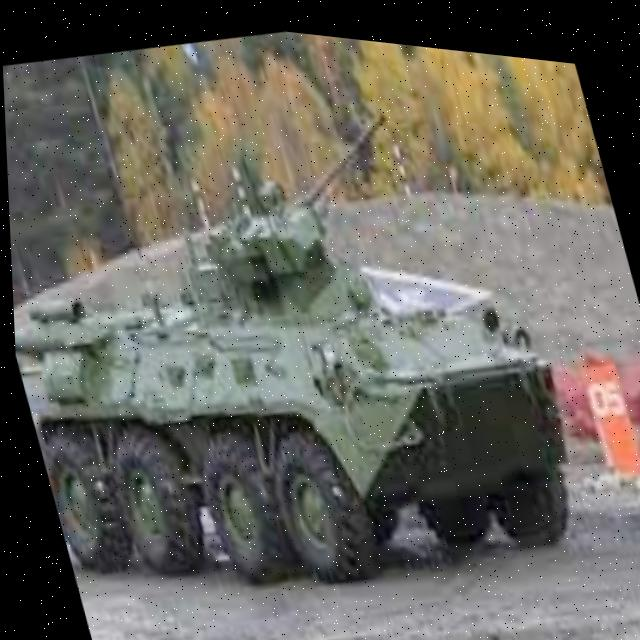MIL_APC: (5, 135, 635, 640)
